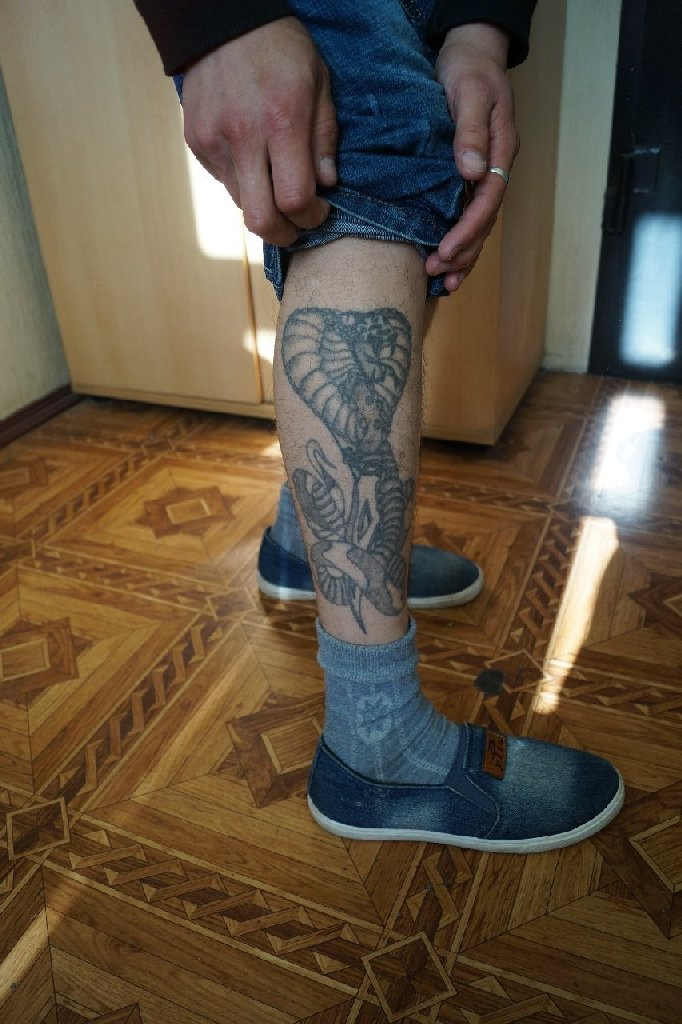tatu7_zmeya: (280, 273, 432, 614)
